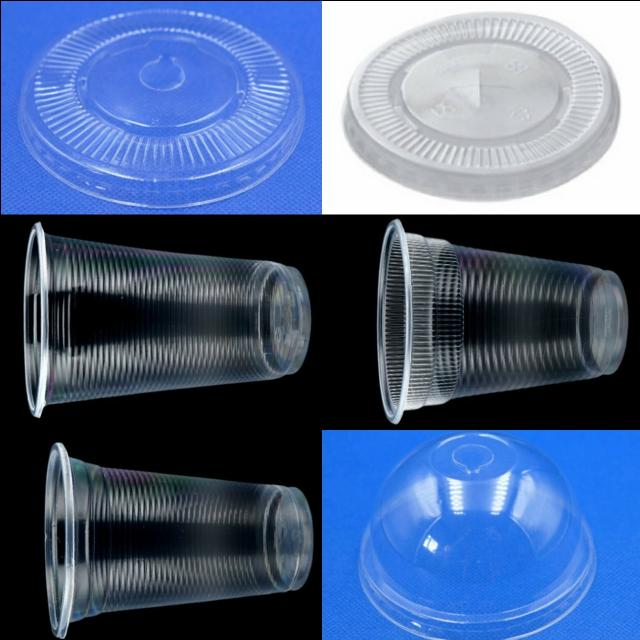plastik: (18, 8, 304, 206), (23, 221, 310, 416), (44, 442, 312, 636), (343, 12, 618, 199), (377, 219, 626, 422), (358, 431, 594, 640)
